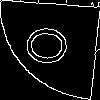O: (24, 25, 79, 68)
